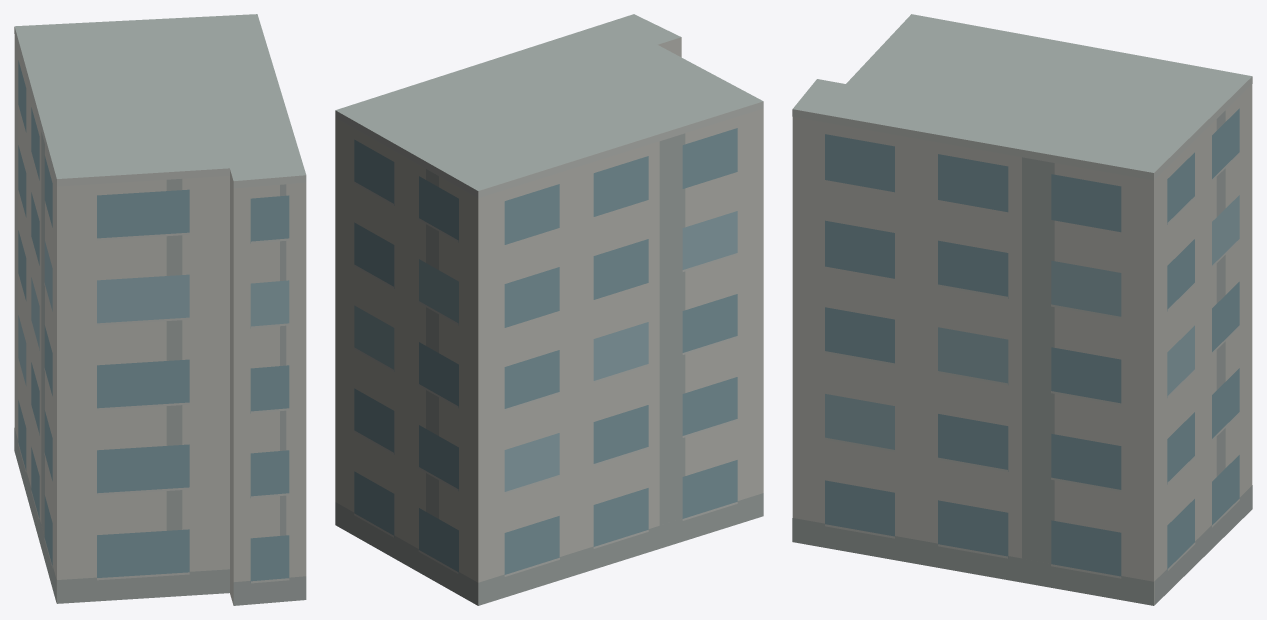
File: survey-upis-32802630.glb
The picture shows the model from 3 angles, left to right: view 1: azimuth 30°, elevation 25°; view 2: azimuth 150°, elevation 25°; view 3: azimuth 270°, elevation 25°; orthographic projection. The views are drawn at different scales.
Parts seen in each view (by area): view 1: survey-upis-32802630.tmp; view 2: survey-upis-32802630.tmp; view 3: survey-upis-32802630.tmp.
Boxes of the visible parts, x1,y1,x2,y2 form: survey-upis-32802630.tmp: (14, 14, 306, 605); survey-upis-32802630.tmp: (335, 14, 763, 605); survey-upis-32802630.tmp: (792, 14, 1252, 605).
Bounding box in the file's own units: 10.92 × 13.85 × 13.35.
